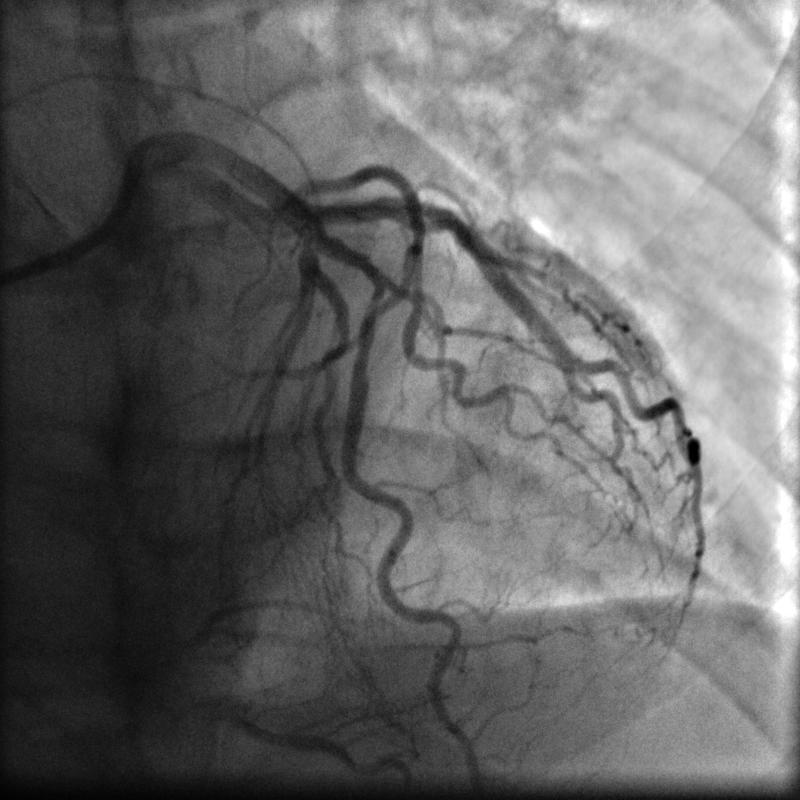Stenosis: (358, 276, 389, 350)
